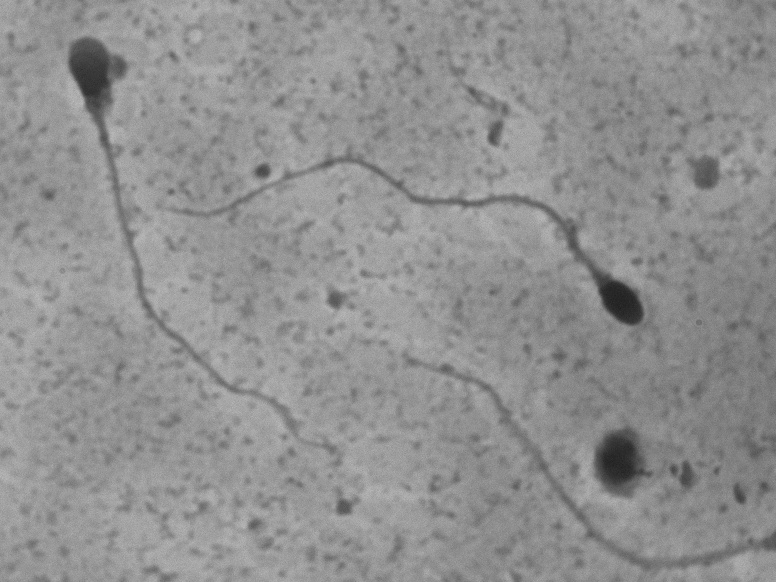Abnormal: (48, 25, 376, 483)
Normal: (158, 131, 668, 366)
